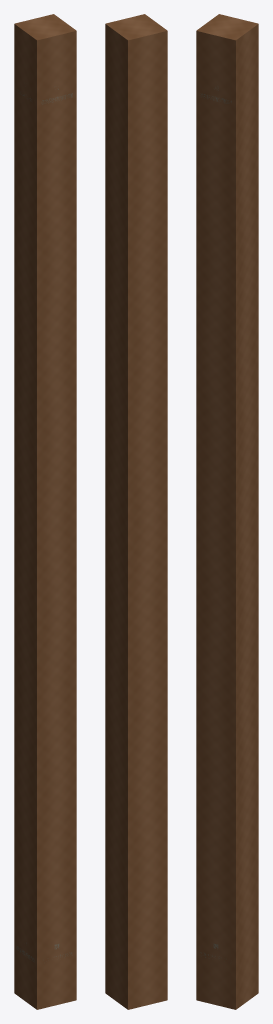
The model's file is MRP_FramePost_Corner_2p8m.fbx.
3 renders of one model, left to right at view 1: azimuth 30°, elevation 25°; view 2: azimuth 210°, elevation 25°; view 3: azimuth 330°, elevation 25°, orthographic.
Visible parts, largest first — view 1: Body; view 2: Body; view 3: Body.
Boxes of the visible parts, left/top/right/bottom form: Body: left=14, top=14, right=76, bottom=1009; Body: left=105, top=14, right=167, bottom=1009; Body: left=196, top=14, right=258, bottom=1009.
Bounding box in the file's own units: 0.12 × 2.8 × 0.12.
